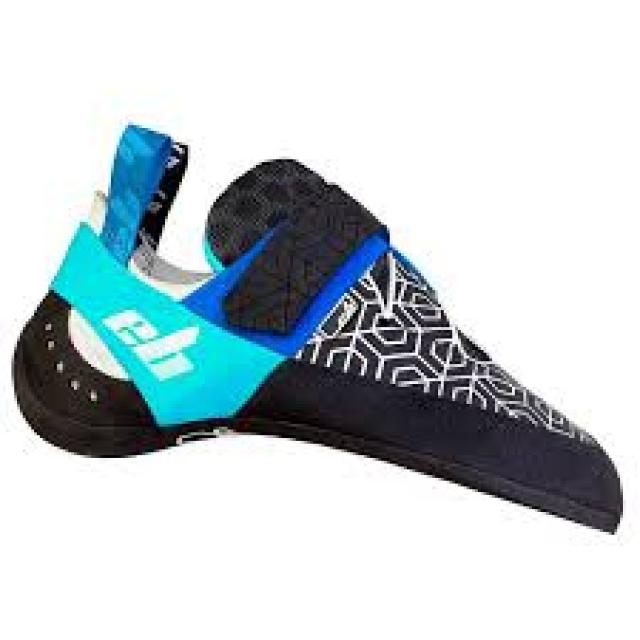climbing-shoes: (14, 124, 624, 534)
